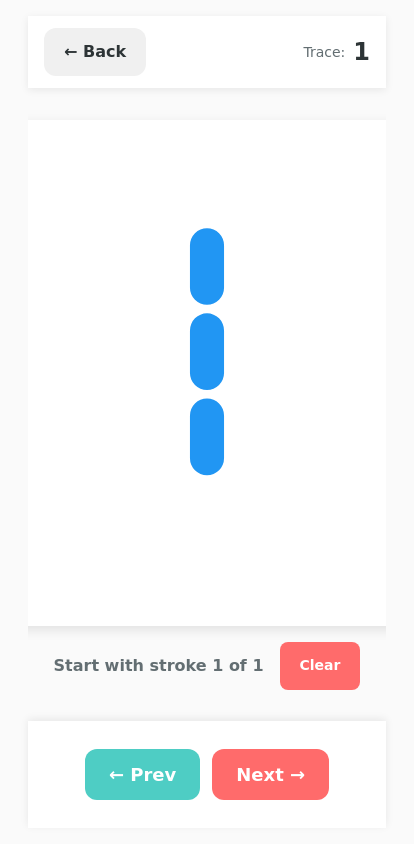
Navigation Flow Integration › should navigate to previous character when Previous is clicked
Check: the text "Trace:" is shown, box left=303, top=42, right=345, bottom=62
Note: Click Previous button
Click the button with aria-label "Previous character". click: (143, 774)
box: left=85, top=749, right=200, bottom=800
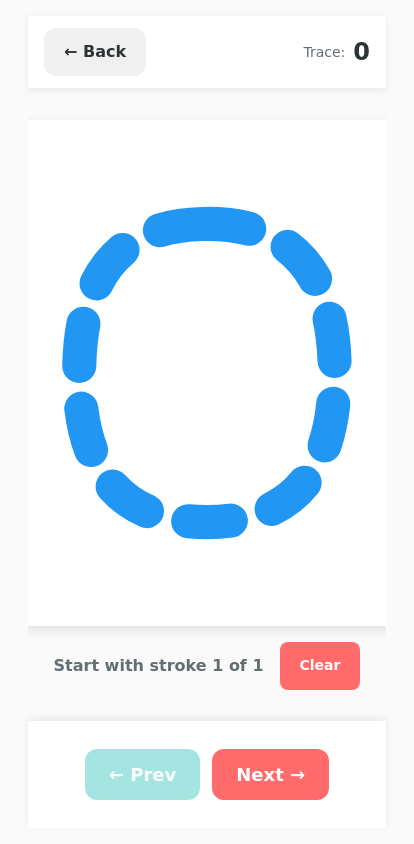
Check: the text "0" is shown, box left=353, top=34, right=370, bottom=70
